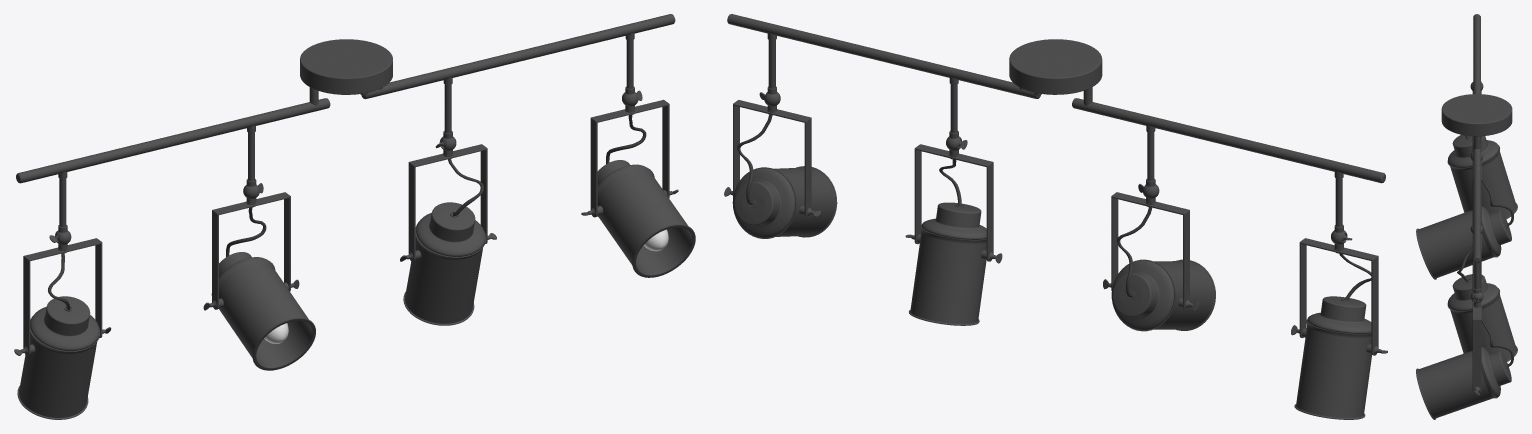
3 views of the same model, side by side, from view 1: azimuth 30°, elevation 25°; view 2: azimuth 150°, elevation 25°; view 3: azimuth 270°, elevation 25° (orthographic). The views are drawn at different scales.
Visible parts, largest first — view 1: ASSET; view 2: ASSET; view 3: ASSET.
Boxes of the visible parts, x1,y1,x2,y2 form: ASSET: (14, 14, 695, 419); ASSET: (724, 14, 1387, 419); ASSET: (1416, 14, 1517, 419).
Bounding box in the file's own units: 0.925 × 0.381 × 0.1623.
1 material, 1 textured.
